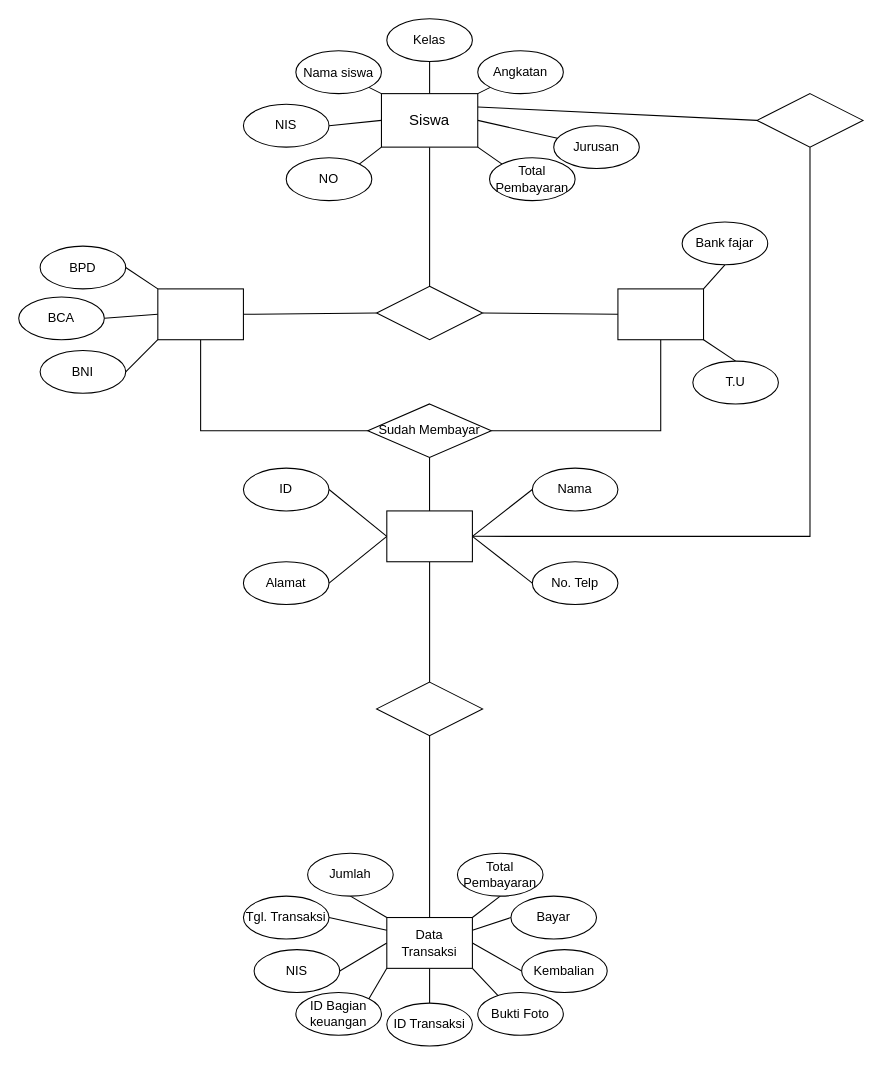
Some shapes in this 882 by 1065 pixel diagram are drawn without their labels. Here are the shapes that lost their labels. From the top down, the box of each, then its label:
(756, 93, 863, 147): Bea Siswa
(157, 288, 243, 340): Online
(376, 285, 483, 340): Membayar
(617, 288, 704, 340): Offline
(386, 510, 472, 562): Keuangan
(376, 681, 483, 736): Memproses
